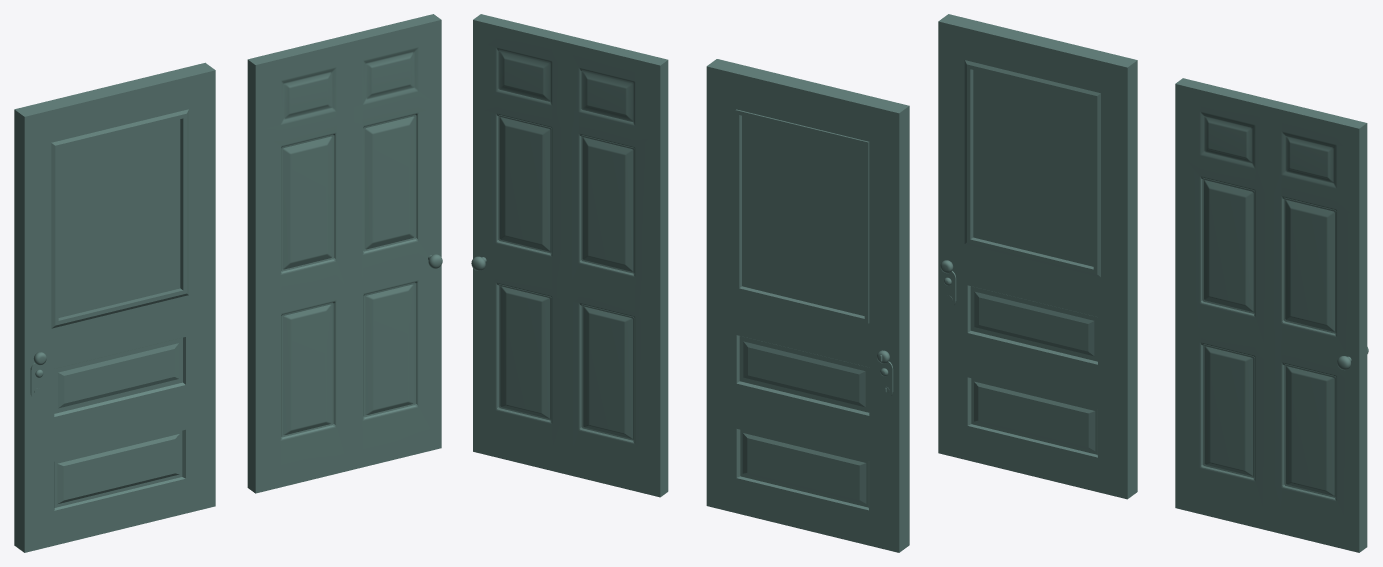
File: ApartmentDoors_high.fbx
3 renders of one model, left to right at view 1: azimuth 30°, elevation 25°; view 2: azimuth 150°, elevation 25°; view 3: azimuth 330°, elevation 25°, orthographic.
Visible parts, largest first — view 1: door_high, Door_high; view 2: door_high, Door_high; view 3: door_high, Door_high.
Part boxes in pixels (box(x1,y1,x2,y2)): door_high: box(14, 62, 215, 552); Door_high: box(247, 14, 442, 493); door_high: box(706, 59, 909, 552); Door_high: box(471, 14, 668, 497); door_high: box(938, 14, 1137, 499); Door_high: box(1175, 78, 1368, 552).
Size of the model in its own units: 2.12 by 2.1 by 0.2192.
